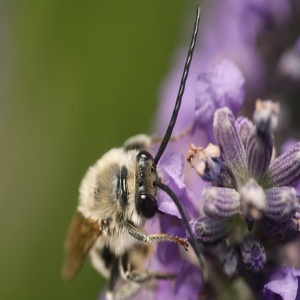bee: (54, 149, 168, 290)
